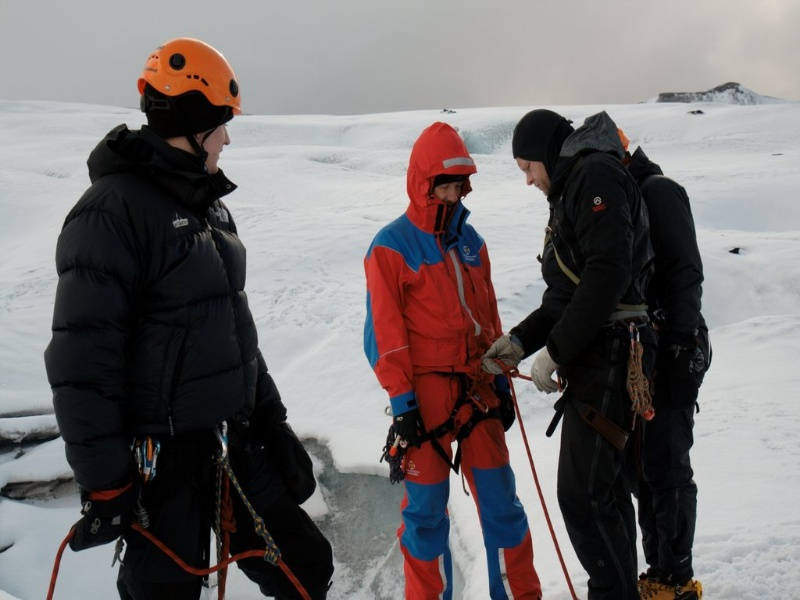helmet: (139, 38, 242, 113)
jacket: (392, 224, 503, 366)
